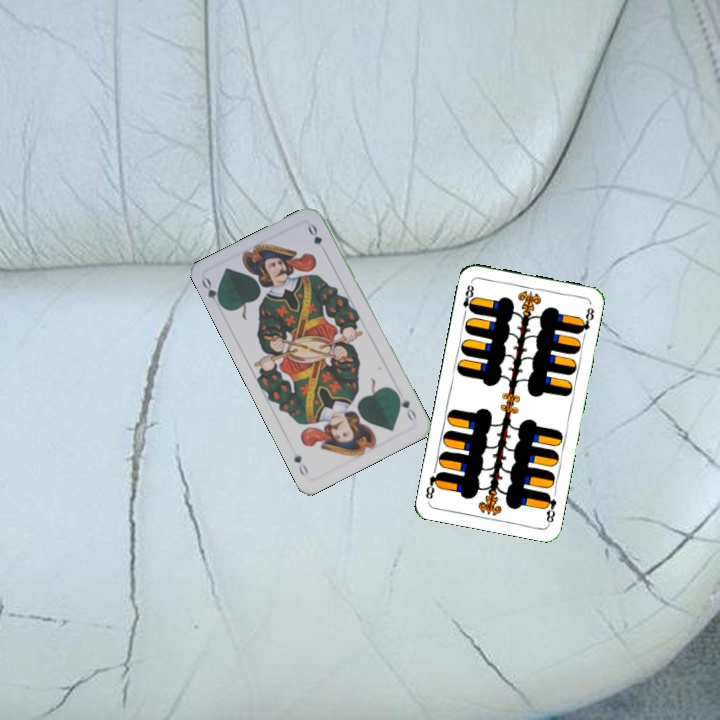E8: (459, 281, 478, 318), (540, 489, 559, 526)
GO: (197, 274, 226, 310), (392, 388, 419, 424)
